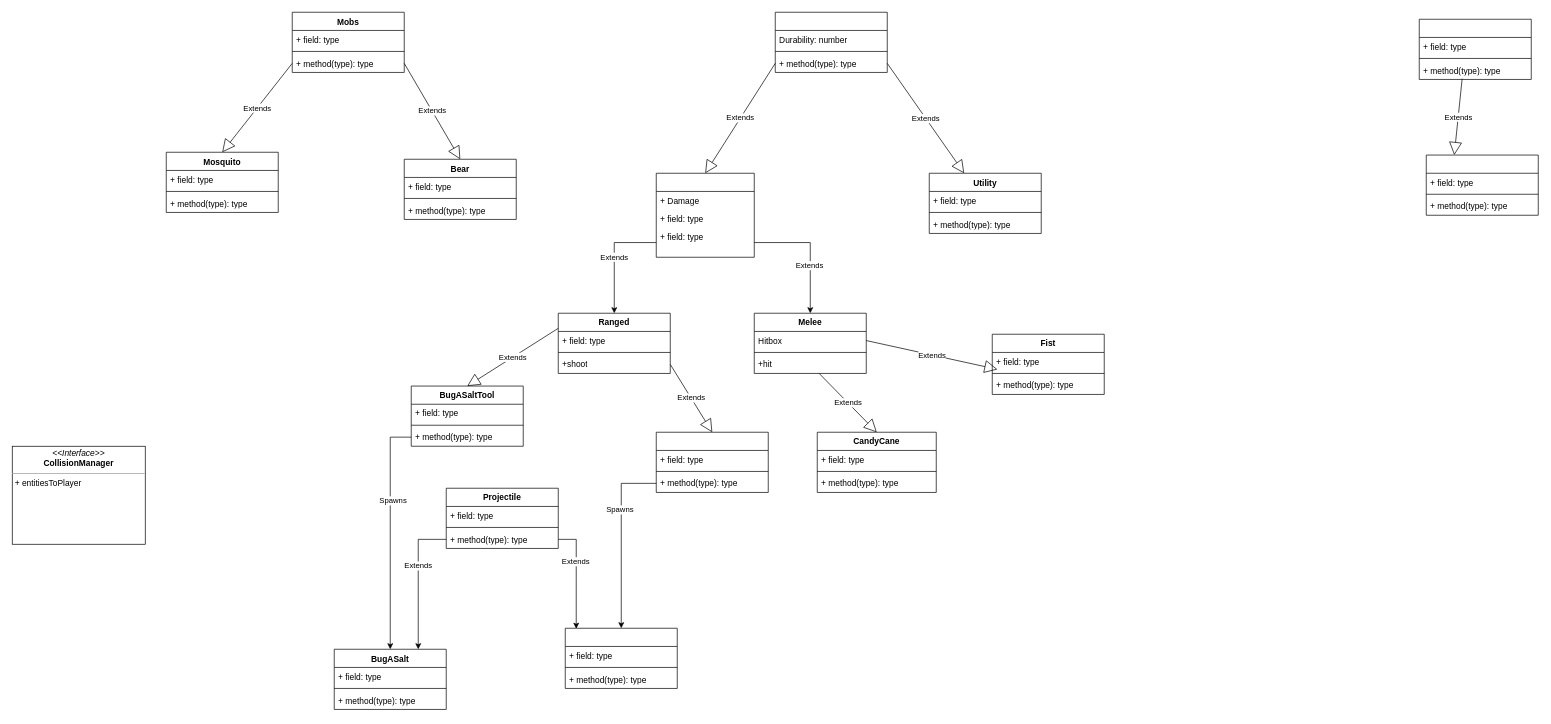
Some shapes in this 1551 by 724 pixel diagram are drawn without their labels. The box of each missing label's shape, as (x1, y1, x2, y2) in pixels:
BugSpray: (565, 628, 677, 688)
BugSprayTool: (656, 432, 768, 492)
DamageTools: (656, 173, 754, 257)
GameScene: (1419, 19, 1531, 79)
Tool: (775, 12, 887, 72)
Tutorial: (1426, 154, 1538, 215)
